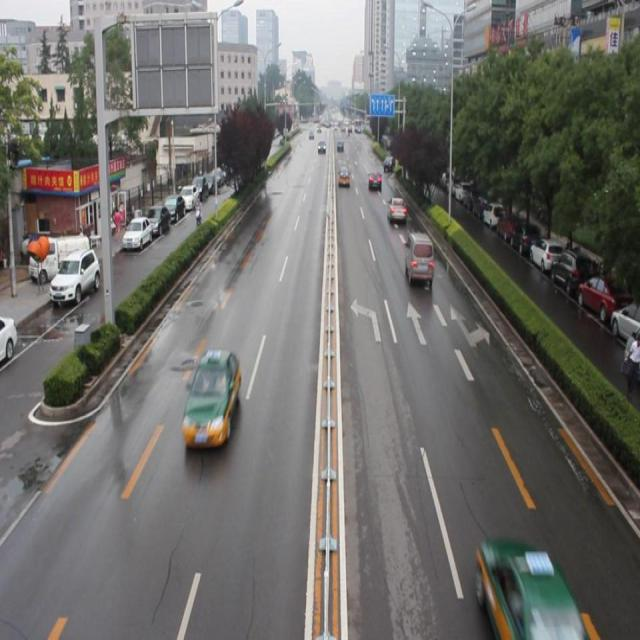car: (474, 532, 590, 640), (181, 349, 242, 445), (385, 194, 407, 222), (366, 168, 382, 190), (336, 165, 349, 188), (382, 154, 395, 172)
truck: (403, 230, 434, 286)
